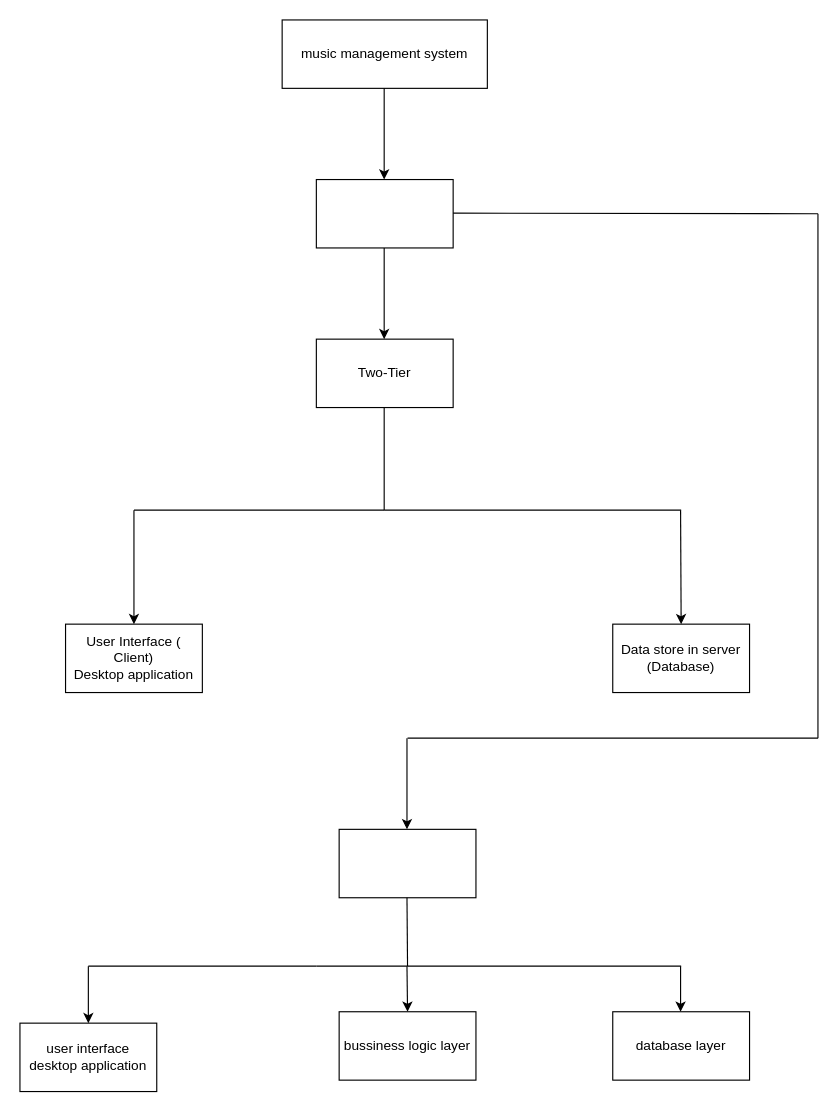
Image size: 839x1112. Some labels were removed from this diagram. The centre of each missing label's shape, as x and y in pixels:
N-Tier: point 384,213
Three-Tier: point 407,863
